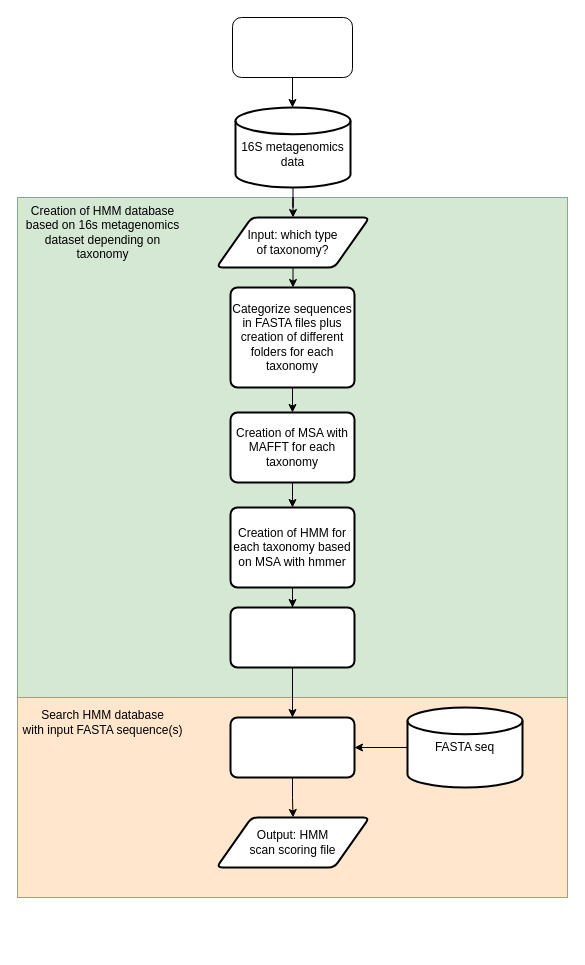
Image size: 585x965. Some labels were removed from this diagram. The shapes that lost their labels are listed below. From the top down, each one's centre as x and y in pixels, then its label:
pixel 292 47: HMM classification project
pixel 292 637: Join all HMMs in one databse
pixel 292 747: Search HMM database with input sequences
